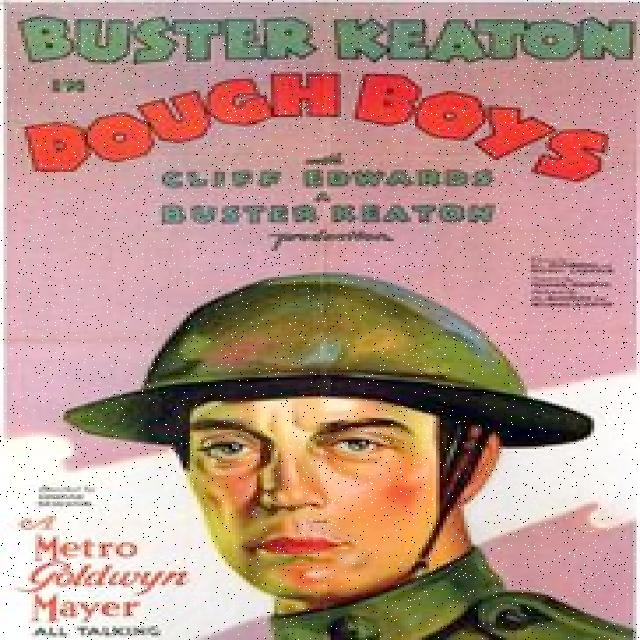movie-judul: (17, 12, 636, 228)
picture: (71, 280, 614, 637)
